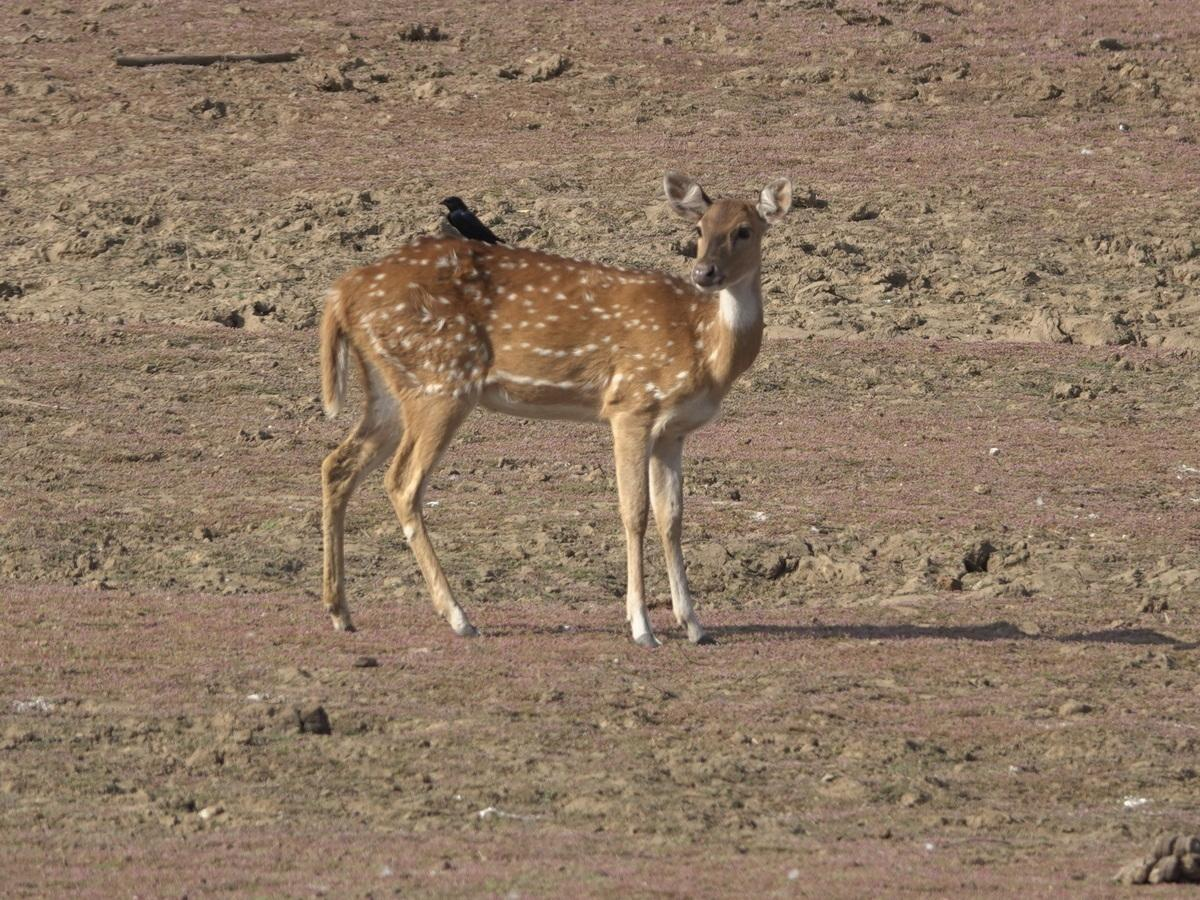Deer: (320, 172, 791, 644)
